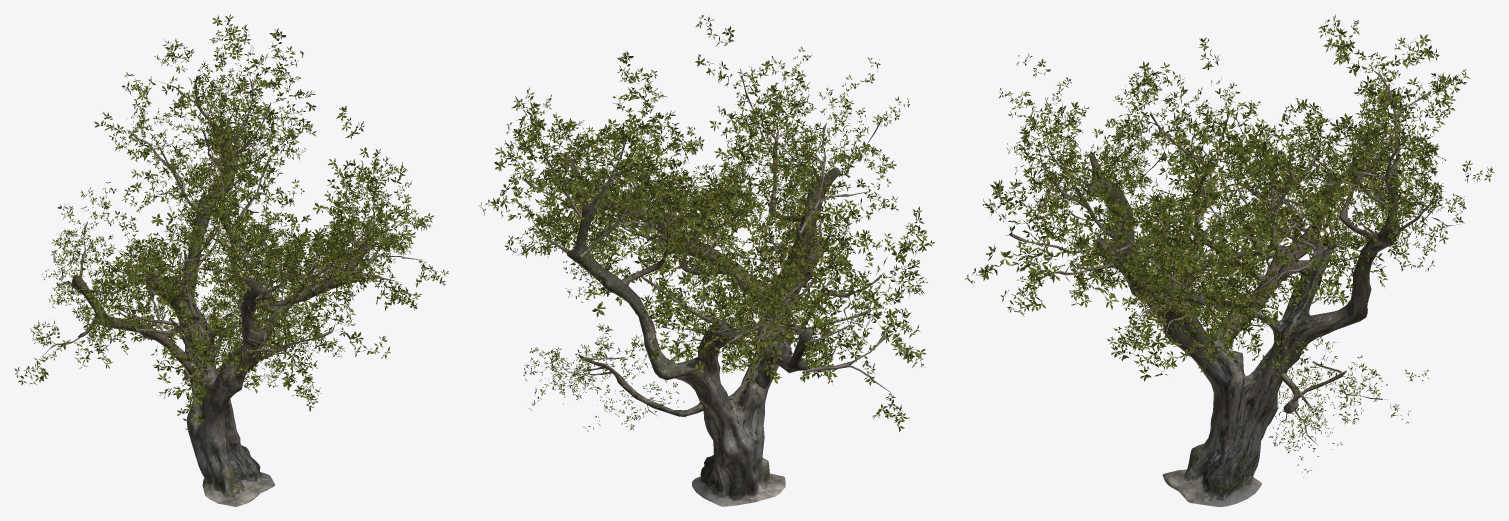
File: island_tree_01.glb
The picture shows the model from 3 angles, left to right: view 1: azimuth 30°, elevation 25°; view 2: azimuth 150°, elevation 25°; view 3: azimuth 270°, elevation 25°; orthographic projection. The views are drawn at different scales.
Visible parts, largest first — view 1: island_tree_01_LOD0; view 2: island_tree_01_LOD0; view 3: island_tree_01_LOD0.
Part boxes in pixels (x1=…): island_tree_01_LOD0: x1=14, y1=14, x2=448, y2=506; island_tree_01_LOD0: x1=478, y1=15, x2=934, y2=506; island_tree_01_LOD0: x1=965, y1=14, x2=1494, y2=506.
Bounding box in the file's own units: 4.76 × 5.02 × 4.82.
Materials: 3 (3 with a texture image).
